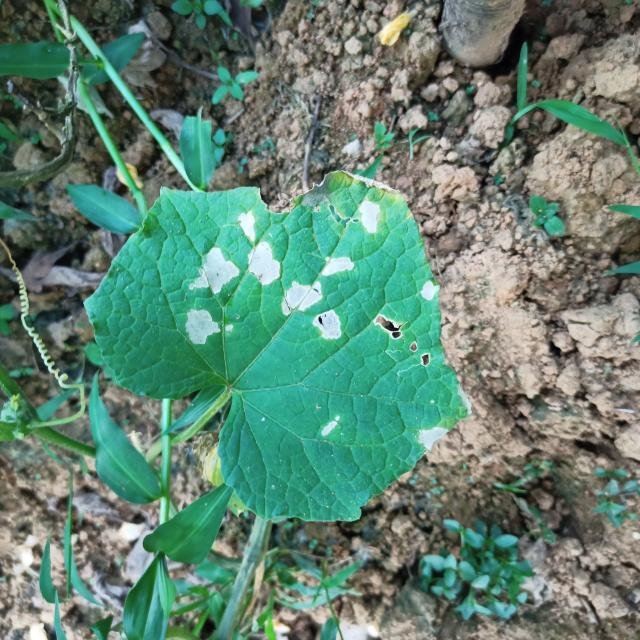disease_cucumber: (280, 280, 342, 341), (237, 209, 281, 286), (374, 312, 432, 369), (188, 246, 241, 297), (184, 308, 235, 346), (357, 200, 383, 236), (417, 425, 450, 451), (321, 255, 355, 279), (320, 415, 342, 438), (420, 280, 440, 302)
